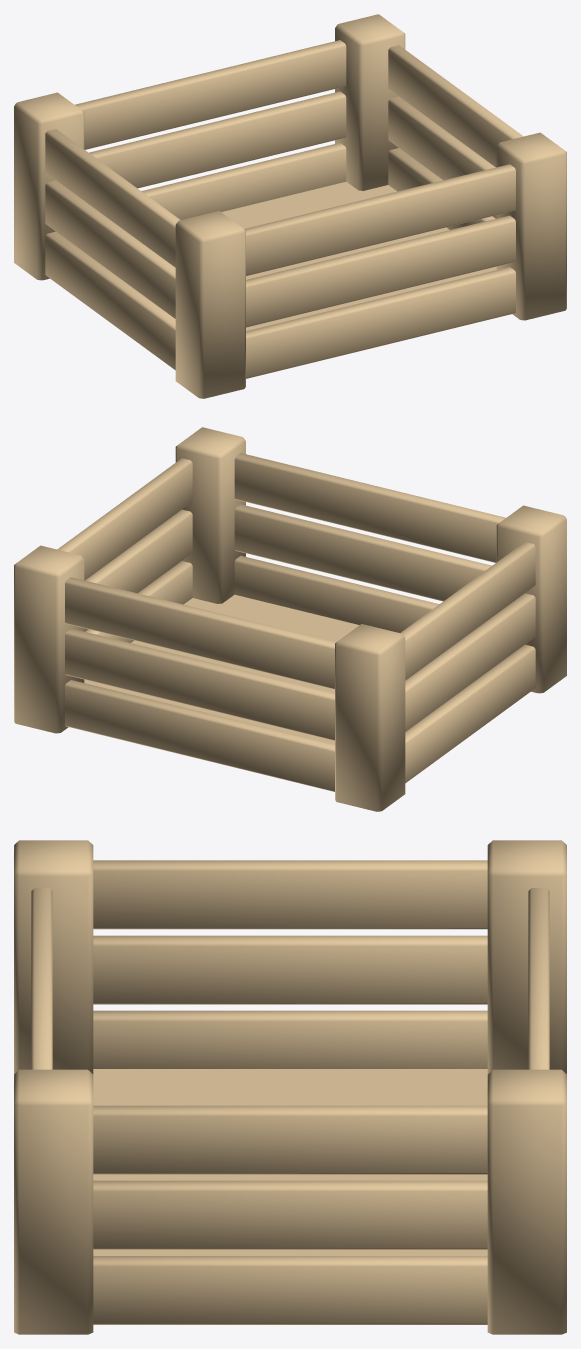
The model's file is wooden box.glb.
3 renders of one model, top to bottom at view 1: azimuth 30°, elevation 25°; view 2: azimuth 150°, elevation 25°; view 3: azimuth 270°, elevation 25°, orthographic. The views are drawn at different scales.
Parts seen in each view (by area): view 1: Wooden Box; view 2: Wooden Box; view 3: Wooden Box.
Part boxes in pixels (x1,y1,x2,y2): Wooden Box: (14, 14, 566, 398); Wooden Box: (14, 427, 566, 811); Wooden Box: (14, 840, 566, 1334).
Size of the model in its own units: 1.15 by 0.4757 by 1.02.
